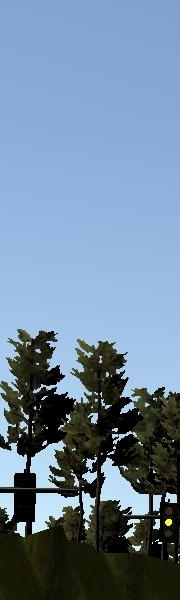Yellow: (158, 502, 180, 543)
